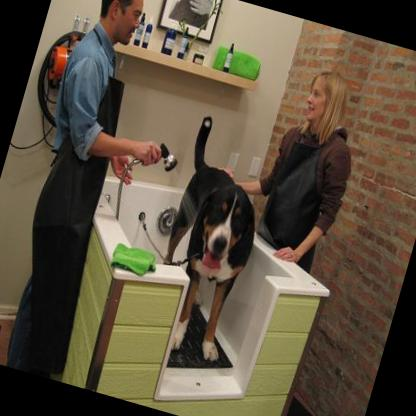Greater_Swiss_Mountain_dog: (135, 112, 285, 367)
